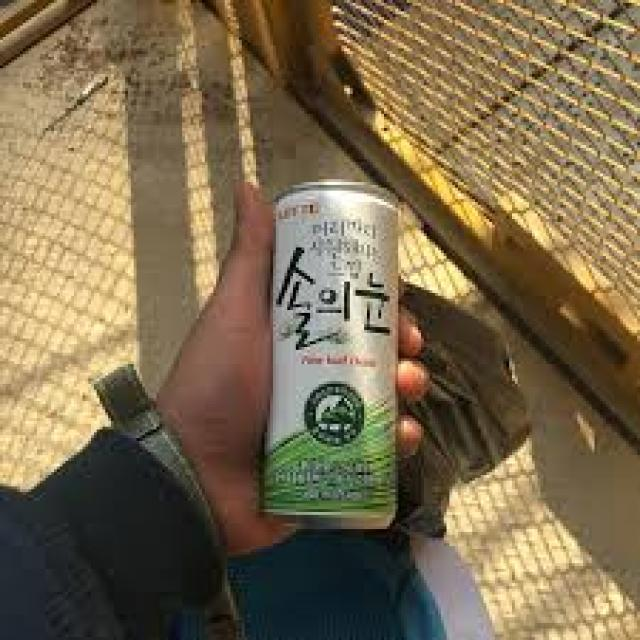Cans: (262, 179, 412, 529)
